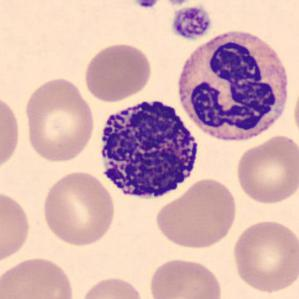Basophil: (93, 92, 204, 206)
Neutrophil: (172, 24, 292, 148)
Platelets: (168, 5, 214, 43), (132, 0, 162, 9), (165, 0, 191, 7)
RBC: (22, 75, 97, 165), (153, 175, 239, 250), (40, 168, 117, 248), (229, 217, 298, 294), (232, 133, 298, 206), (81, 40, 154, 104), (0, 254, 77, 299), (147, 255, 224, 299), (0, 187, 33, 267), (76, 273, 148, 299), (0, 90, 22, 175), (291, 78, 299, 140)
